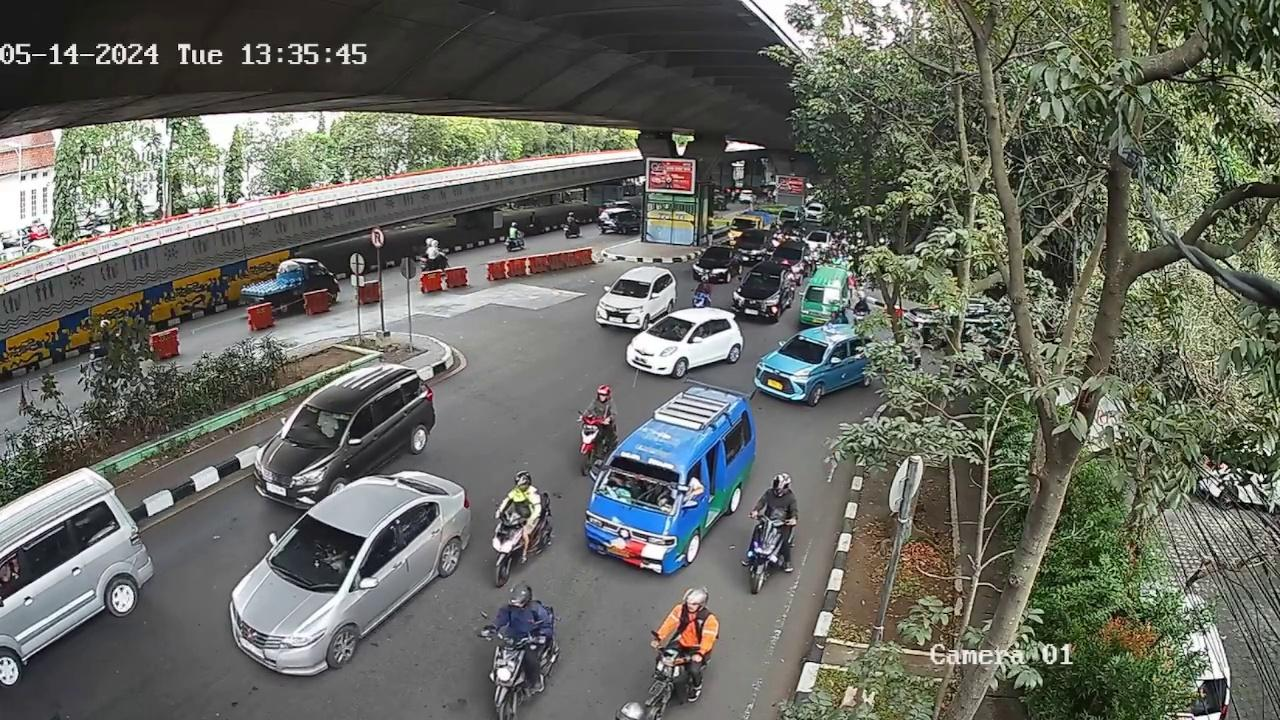tidak-pakai: (312, 414, 338, 440)
windshield: (269, 515, 367, 593), (590, 449, 687, 516), (284, 402, 352, 452), (646, 315, 692, 342), (610, 276, 652, 298)
